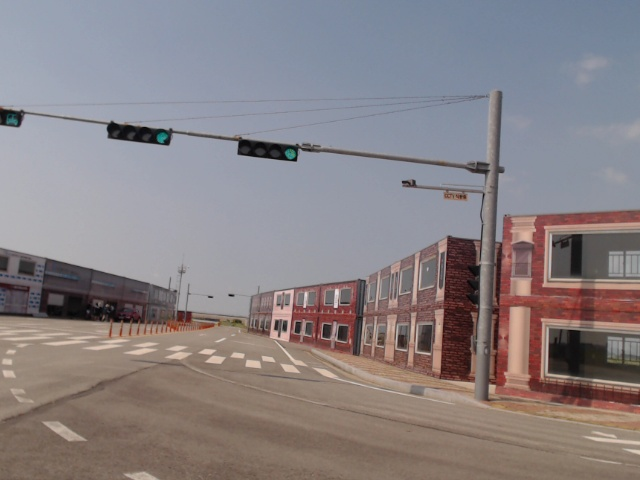straight_green_4: (107, 121, 171, 144), (239, 138, 298, 160)
